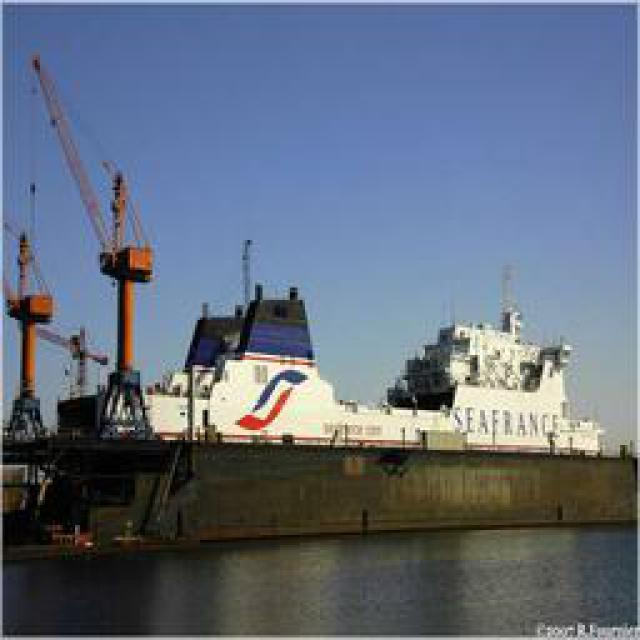Ship: (121, 222, 624, 460)
